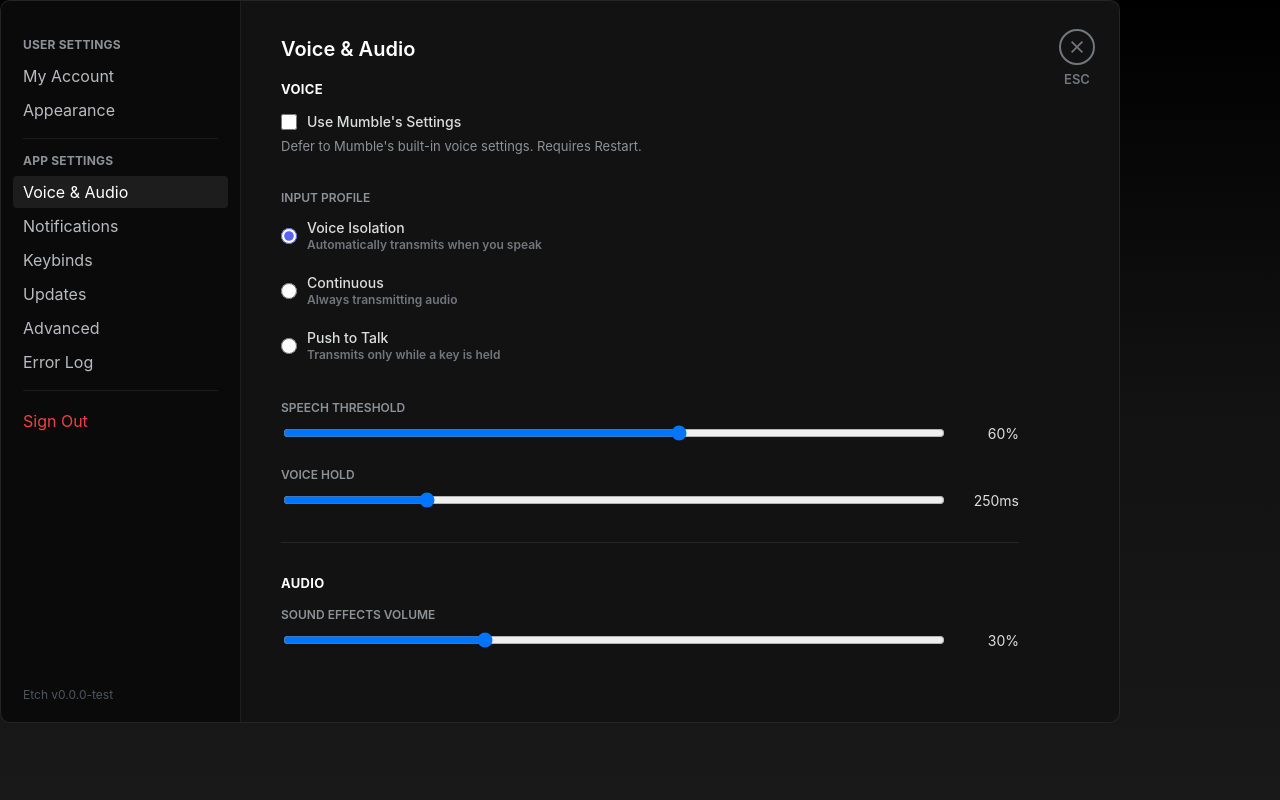
Test: signing out from Settings › stays open with the reason when signing out fails
Click the button "Sign Out": (120,421) [13, 405, 228, 437]
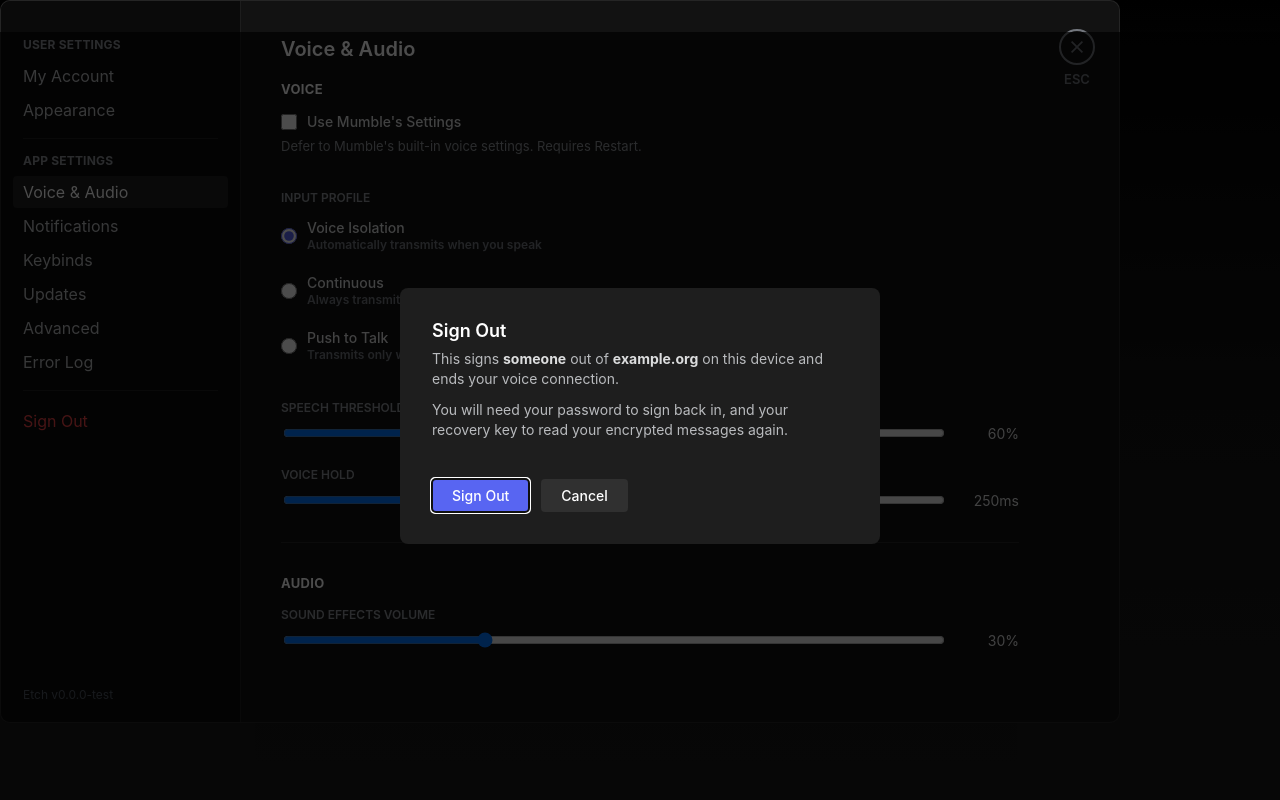
Click the button "Sign Out": (481,496) [432, 479, 529, 512]
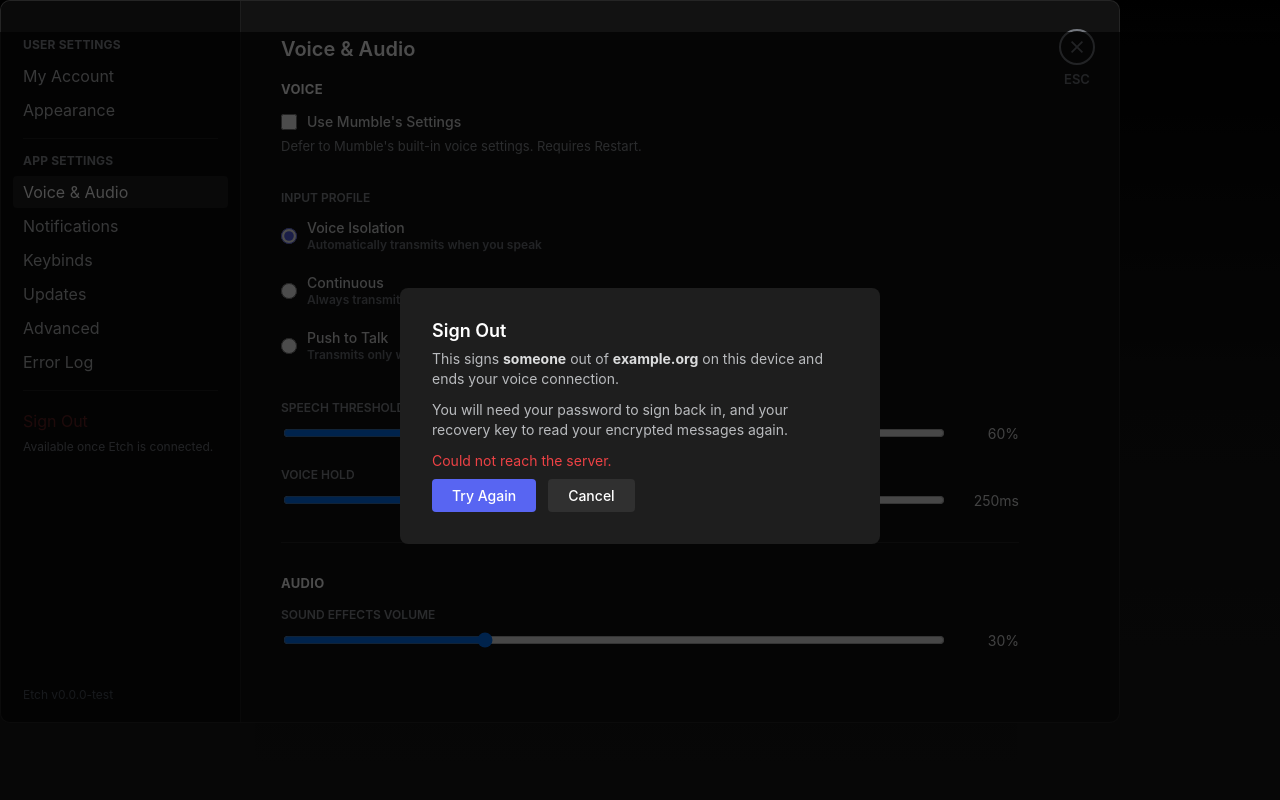
Check: the message reads "Could not reach the server.", box [432, 452, 612, 469]
Click the button "Try Again": (484,496) [432, 479, 536, 512]
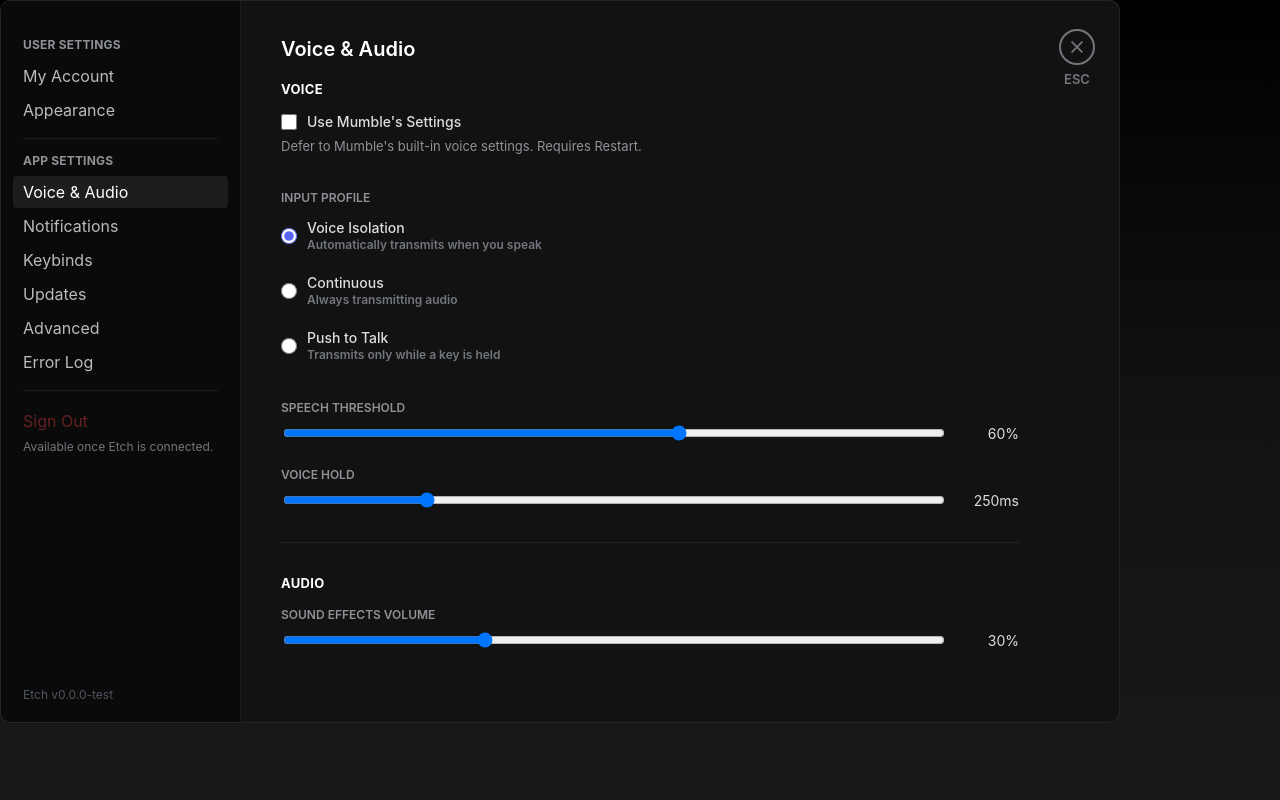
Check: the dialog is gone
